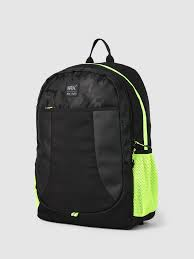backpack: (34, 38, 158, 229)
